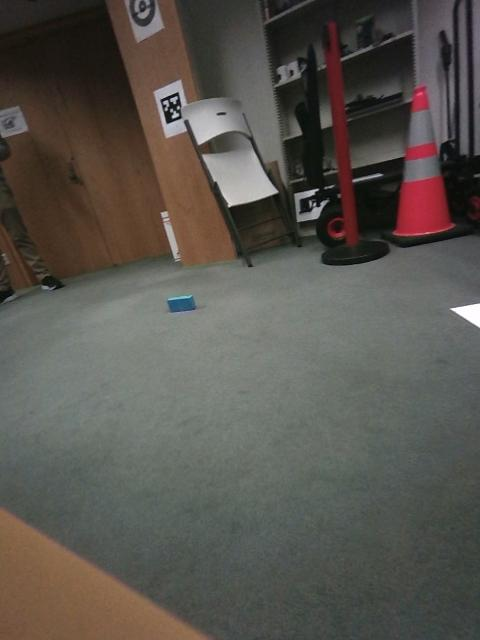block: (407, 243, 450, 279)
